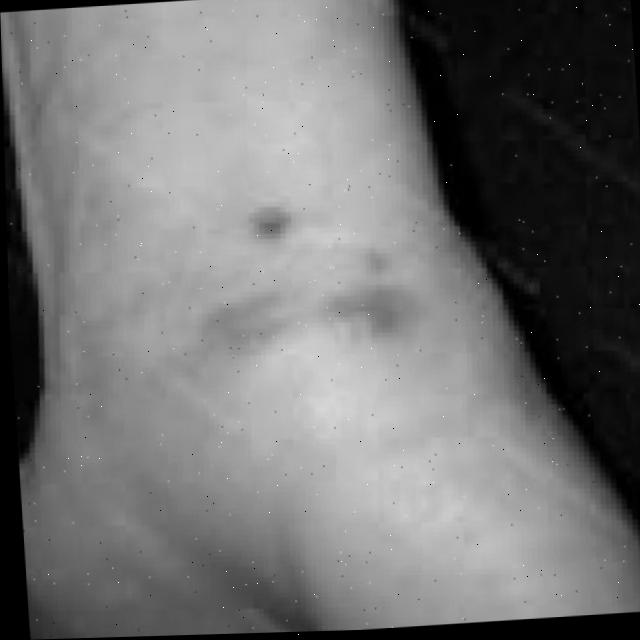Shingles: (201, 270, 399, 371), (247, 206, 293, 243)
